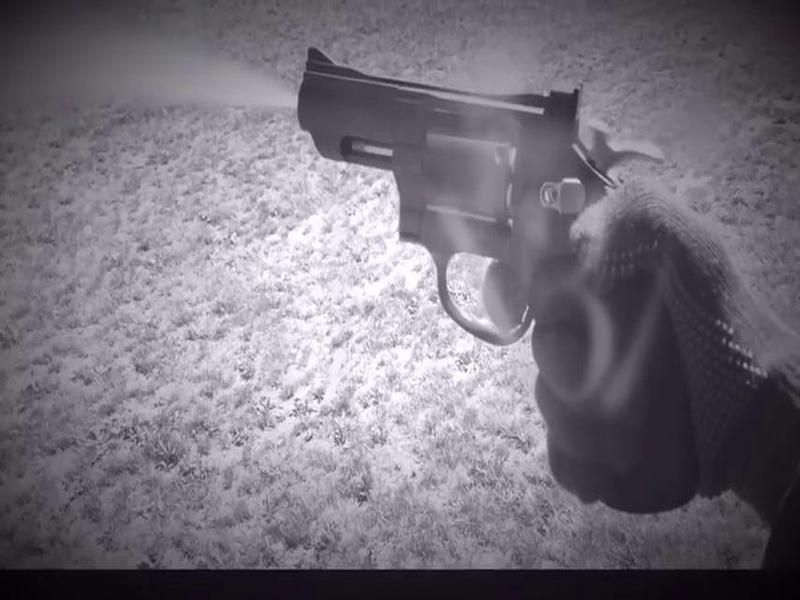Revolver: (300, 48, 716, 483)
